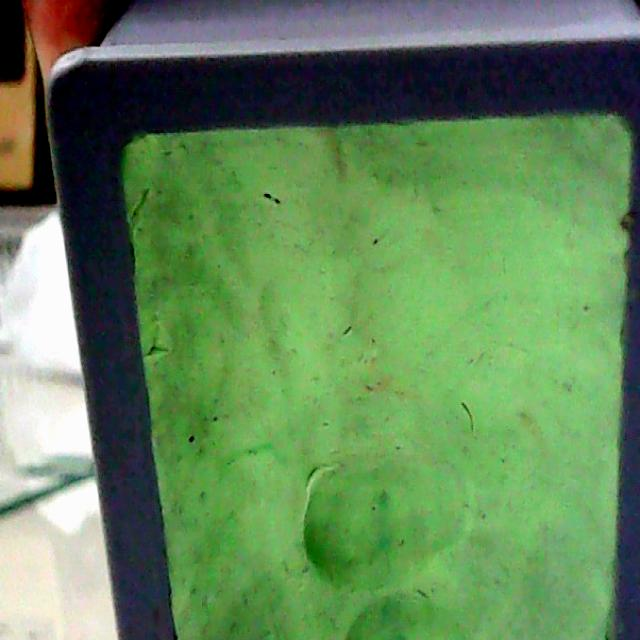block: (53, 10, 640, 640)
